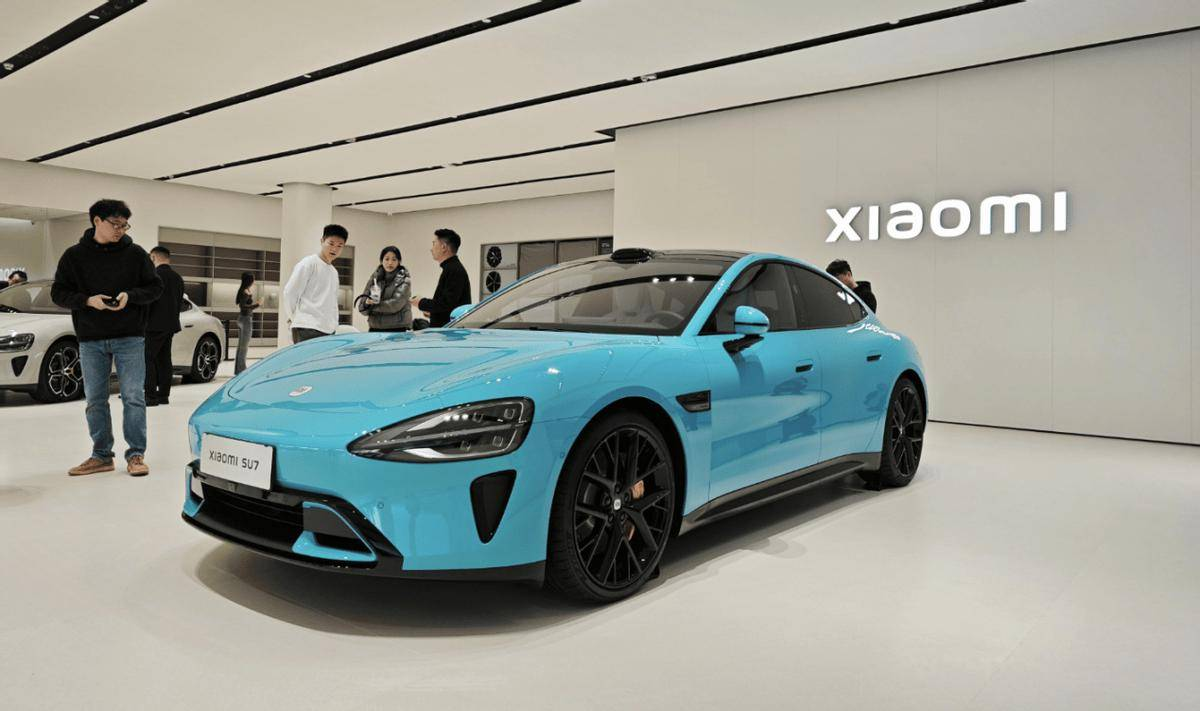su7: (187, 256, 936, 596), (1, 271, 228, 385)
